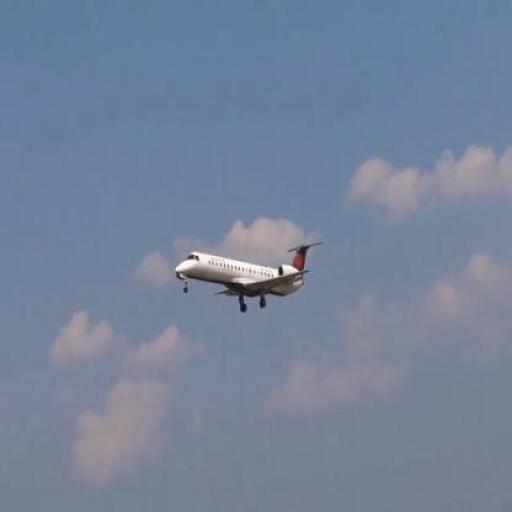aircraft: (175, 240, 324, 311)
